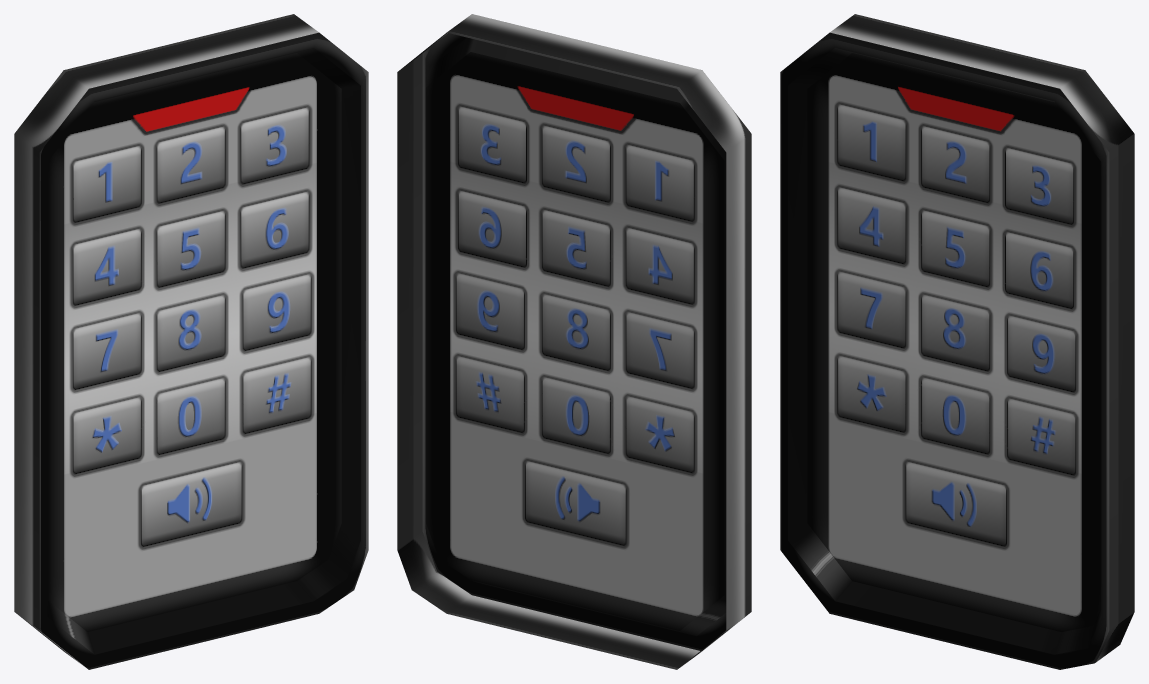
Rendered from Keypad1.fbx.
The picture shows the model from 3 angles, left to right: view 1: azimuth 30°, elevation 25°; view 2: azimuth 150°, elevation 25°; view 3: azimuth 330°, elevation 25°; orthographic projection.
Parts seen in each view (by area): view 1: Keypad1; view 2: Keypad1; view 3: Keypad1.
Part boxes in pixels (<box>): Keypad1: <box>14,14,368,669</box>; Keypad1: <box>397,14,751,669</box>; Keypad1: <box>780,14,1134,669</box>.
Size of the model in its own units: 6.12 by 10.34 by 0.8183.
